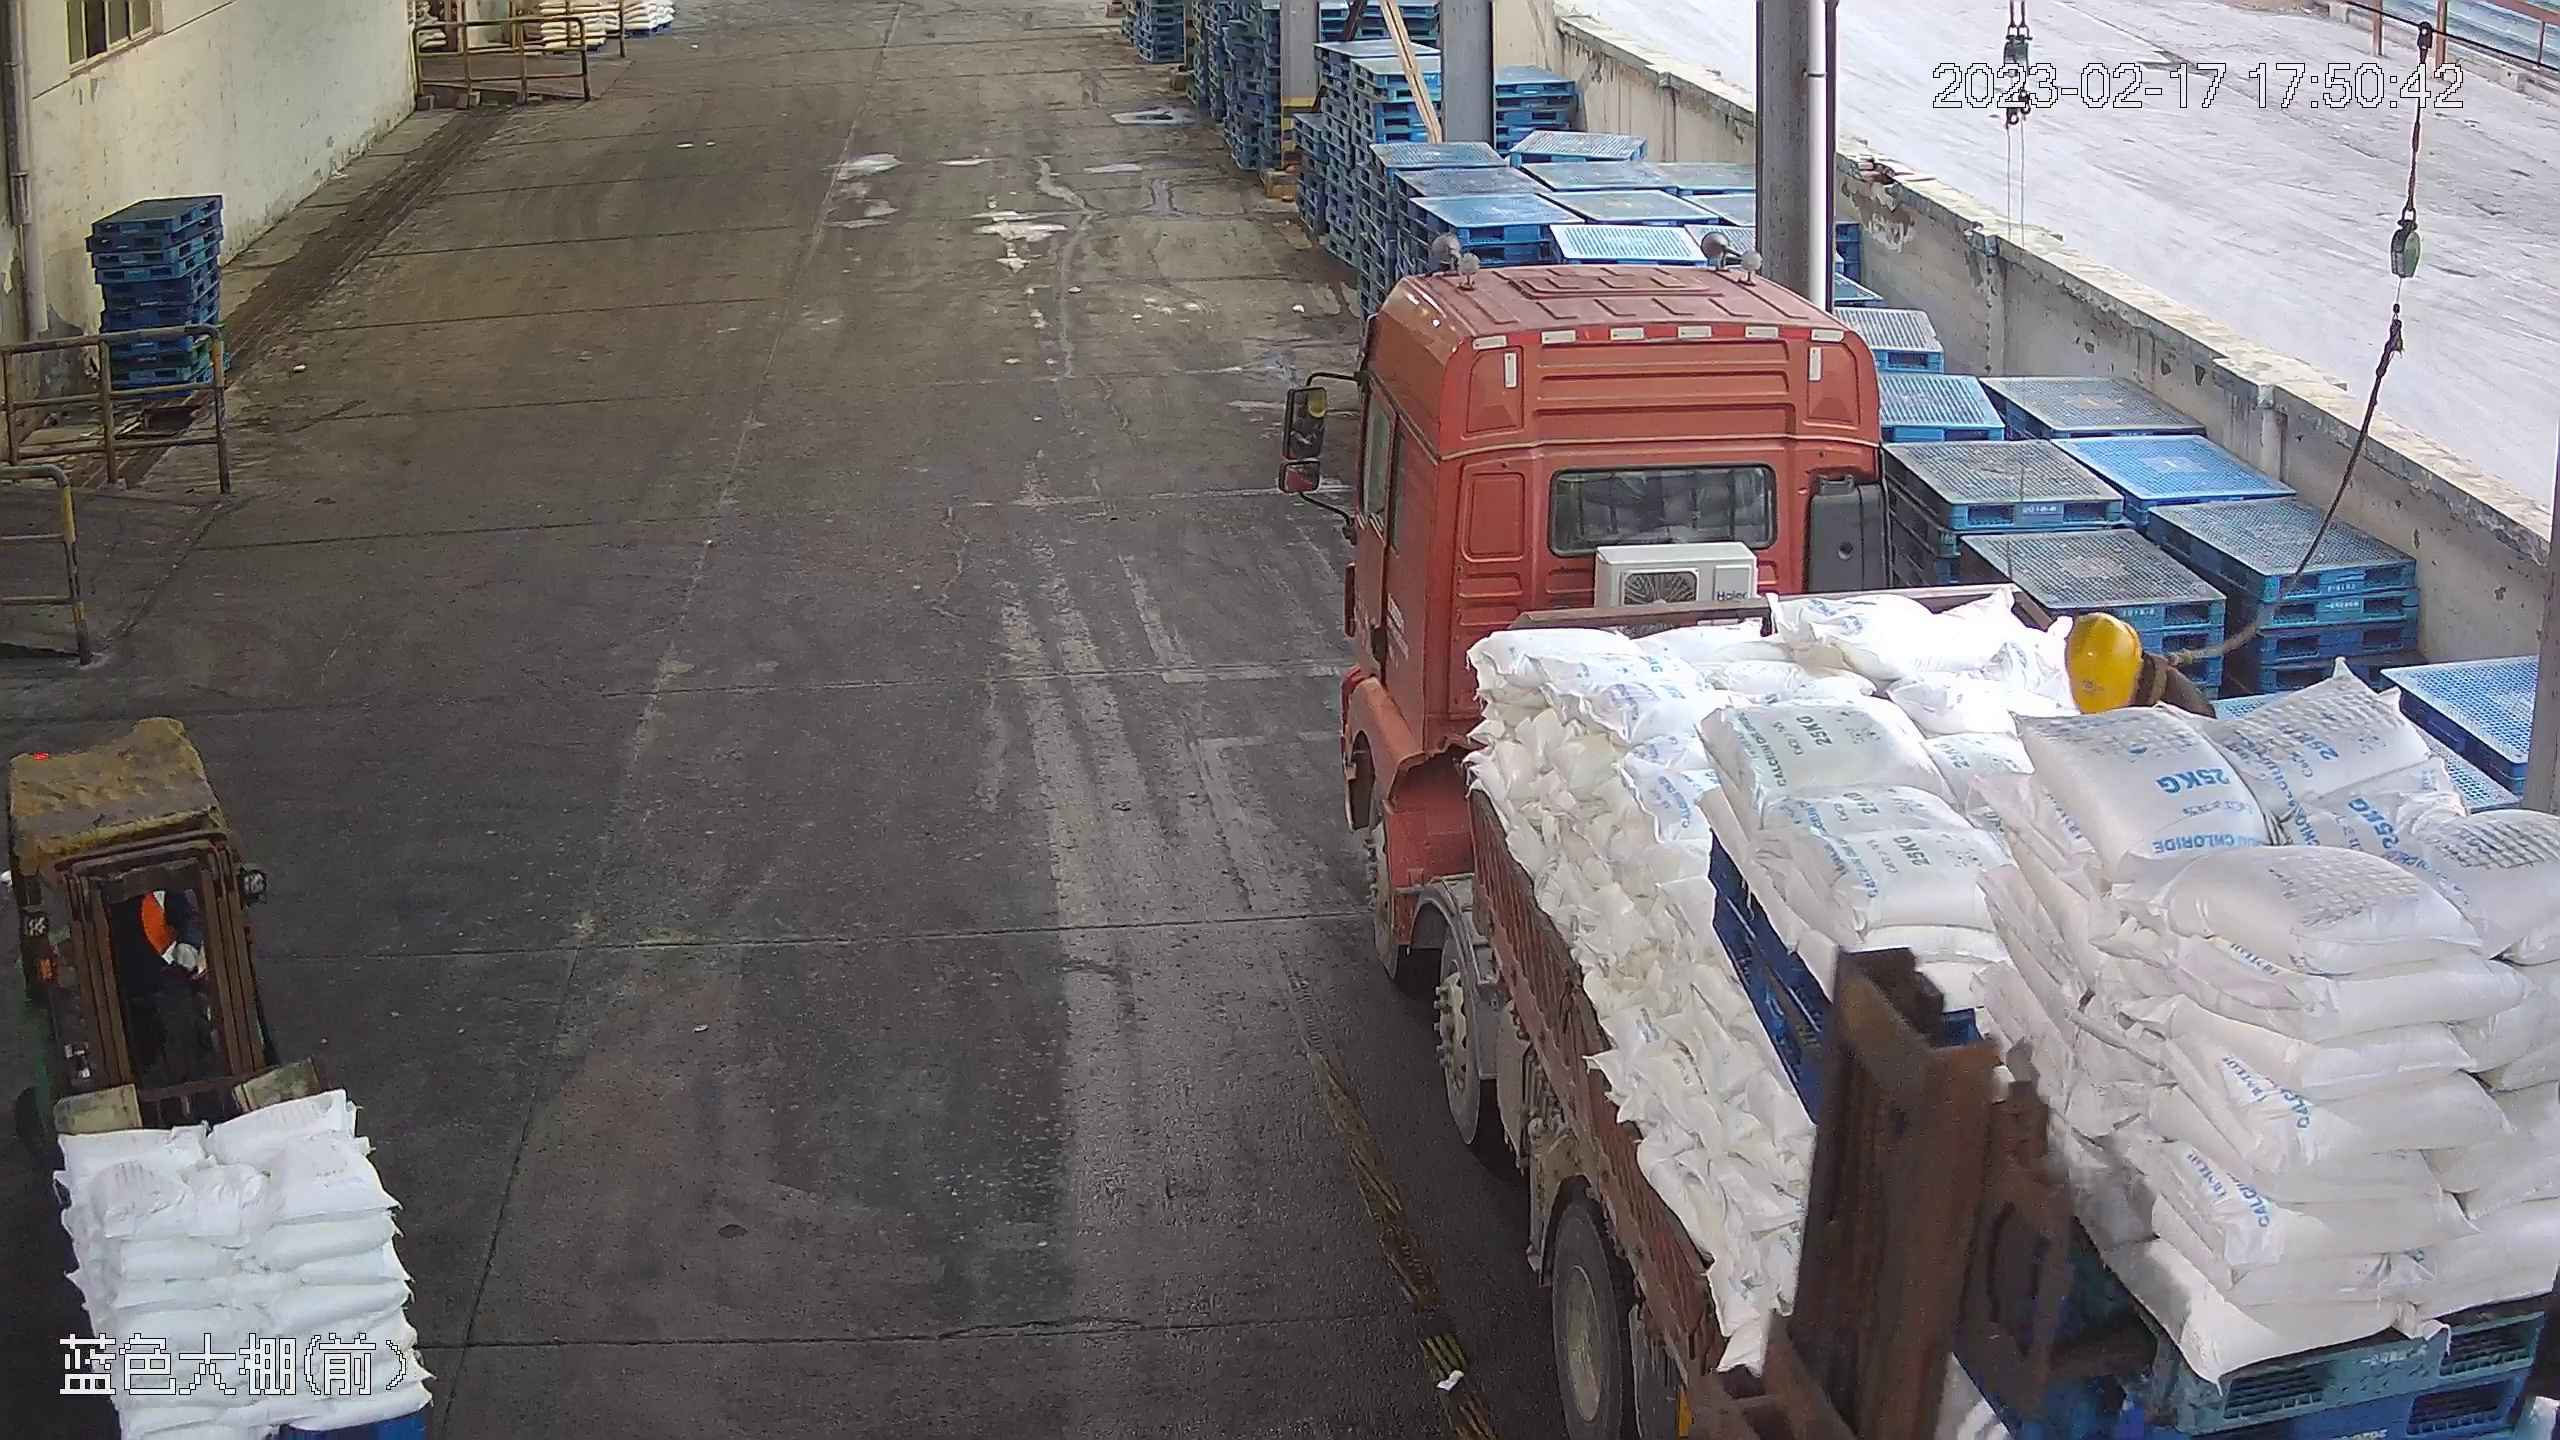belt: (2135, 651, 2191, 712)
helmet: (2061, 608, 2143, 710)
truck: (1275, 236, 2560, 1440)
